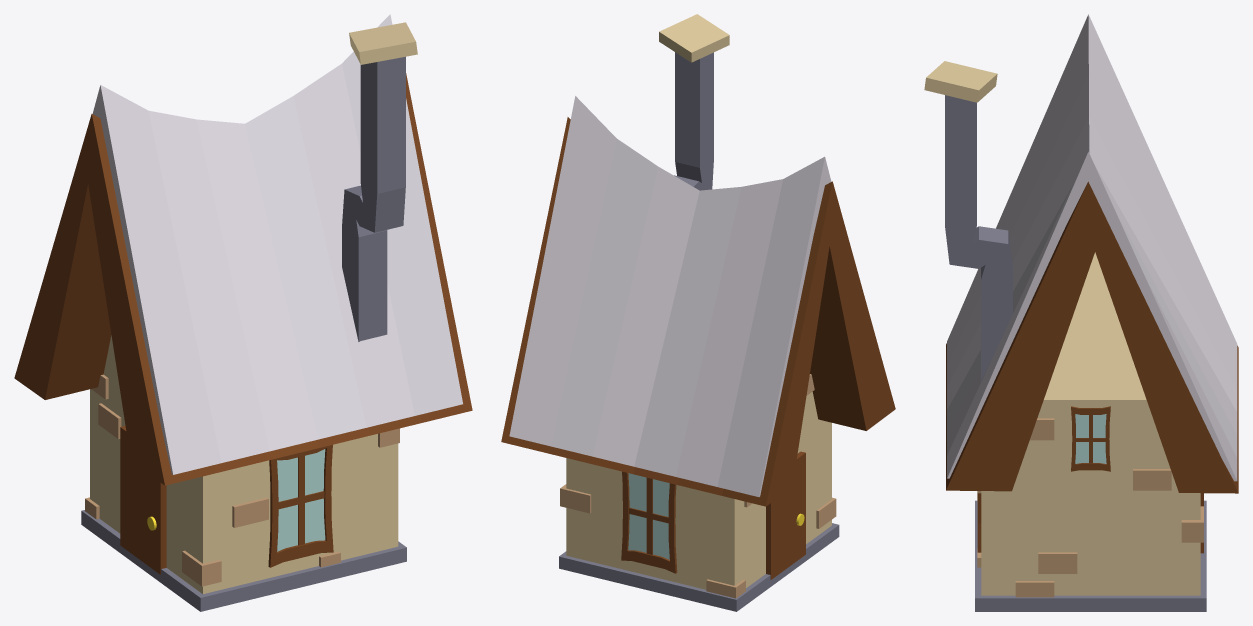
File: HouseWhite.fbx
3 renders of one model, left to right at view 1: azimuth 30°, elevation 25°; view 2: azimuth 150°, elevation 25°; view 3: azimuth 270°, elevation 25°, orthographic. The views are drawn at different scales.
Parts seen in each view (by area): view 1: Roof, UnderLayer, Base, Pole, BaseConcrete, Cube, Glass.001, frame.001, PoleTop, Cube.005, Cube.009; view 2: Roof, UnderLayer, Base, Pole, BaseConcrete, Cube, Glass.002, PoleTop, frame.002, Cube.013, Cross.004, Cube.007; view 3: Roof, Base, UnderLayer, Pole, BaseConcrete, PoleTop, Glass.004, frame.004, Cube.014, Cube.010, Cube.012, Cube.013 (+1 smaller).
Boxes of the visible parts, x1,y1,x2,y2 form: Roof: [92, 14, 462, 474]; UnderLayer: [14, 73, 472, 485]; Base: [90, 335, 398, 593]; Pole: [342, 56, 405, 341]; BaseConcrete: [81, 510, 406, 611]; Cube: [120, 425, 166, 574]; Glass.001: [277, 449, 325, 551]; frame.001: [268, 445, 333, 567]; PoleTop: [349, 22, 417, 64]; Cube.005: [182, 550, 221, 586]; Cube.009: [232, 497, 268, 527]; Roof: [509, 96, 831, 496]; UnderLayer: [501, 117, 895, 506]; Base: [566, 392, 831, 589]; Pole: [674, 52, 713, 190]; BaseConcrete: [559, 523, 839, 611]; Cube: [766, 451, 805, 579]; Glass.002: [628, 473, 669, 559]; PoleTop: [659, 14, 729, 62]; frame.002: [621, 471, 677, 573]; Cube.013: [560, 484, 591, 513]; Cross.004: [646, 477, 652, 554]; Cube.007: [706, 579, 745, 598]; Roof: [947, 14, 1237, 481]; Base: [981, 252, 1200, 595]; UnderLayer: [946, 181, 1238, 493]; Pole: [945, 95, 1012, 380]; BaseConcrete: [975, 500, 1206, 611]; PoleTop: [924, 61, 997, 102]; Glass.004: [1075, 414, 1106, 463]; frame.004: [1071, 406, 1110, 471]; Cube.014: [1038, 552, 1077, 573]; Cube.010: [1133, 469, 1171, 490]; Cube.012: [1015, 581, 1054, 597]; Cube.013: [1181, 506, 1203, 542].
Size of the model in its own units: 315 by 530 by 287.
